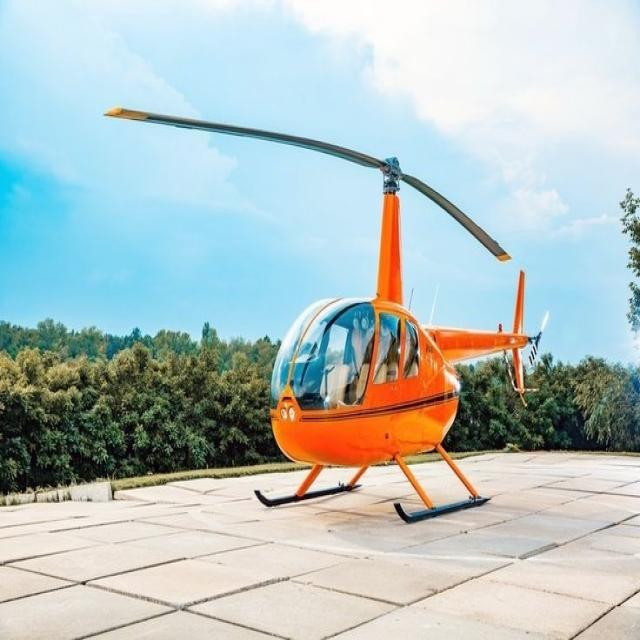CIV_HELO: (252, 152, 533, 528)
